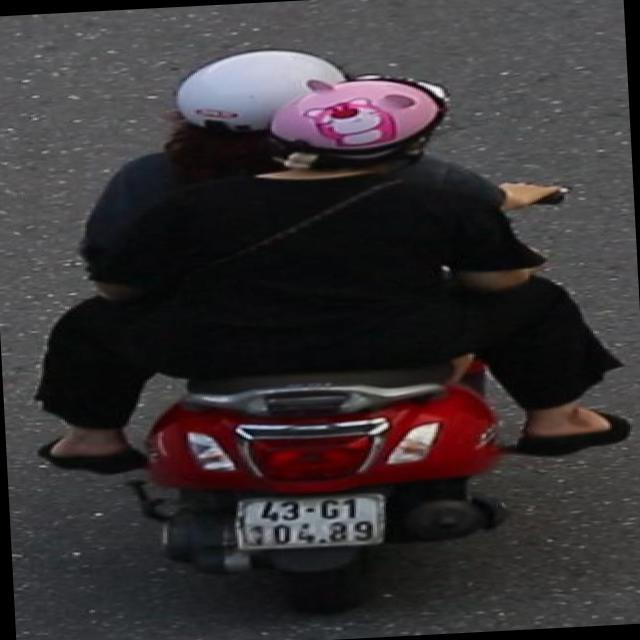LP: (227, 486, 394, 560)
helmet: (154, 38, 368, 165), (248, 72, 456, 196)
